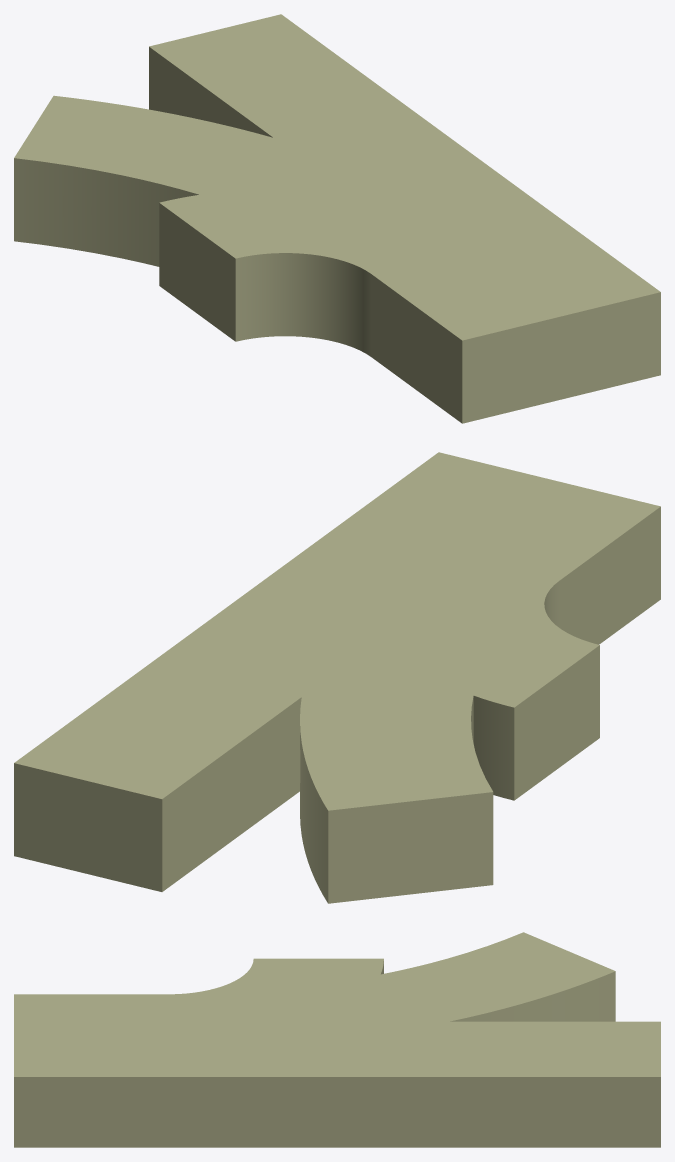
Rendered from model_02_hover.glb.
The picture shows the model from 3 angles, top to bottom: view 1: azimuth 30°, elevation 25°; view 2: azimuth 150°, elevation 25°; view 3: azimuth 270°, elevation 25°; orthographic projection. The views are drawn at different scales.
Bounding box in the file's own units: 80.07 × 18.29 × 151.
